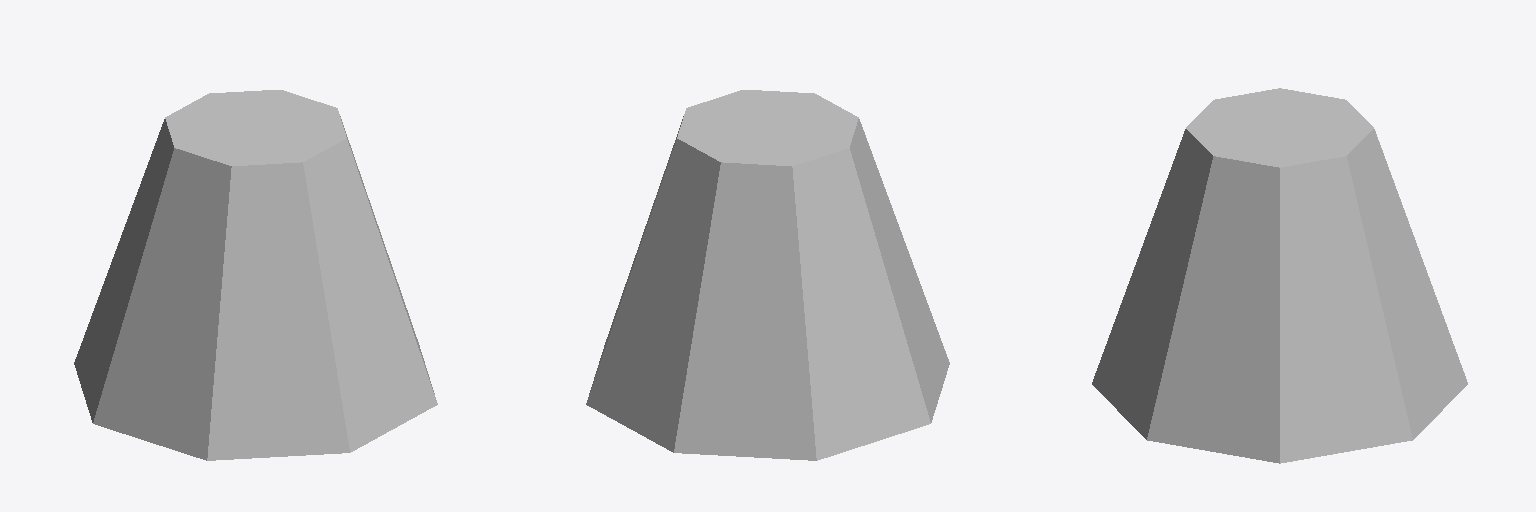
File: capsule_simple.obj
3 renders of one model, left to right at view 1: azimuth 30°, elevation 25°; view 2: azimuth 150°, elevation 25°; view 3: azimuth 270°, elevation 25°, orthographic.
Visible parts, largest first — view 1: Cylinder_Cylinder.001; view 2: Cylinder_Cylinder.001; view 3: Cylinder_Cylinder.001.
Boxes of the visible parts, box(x1,y1,x2,y2) form: Cylinder_Cylinder.001: box(74, 90, 437, 460); Cylinder_Cylinder.001: box(586, 90, 949, 460); Cylinder_Cylinder.001: box(1092, 88, 1467, 463).
Size of the model in its own units: 2 by 1.5 by 2.